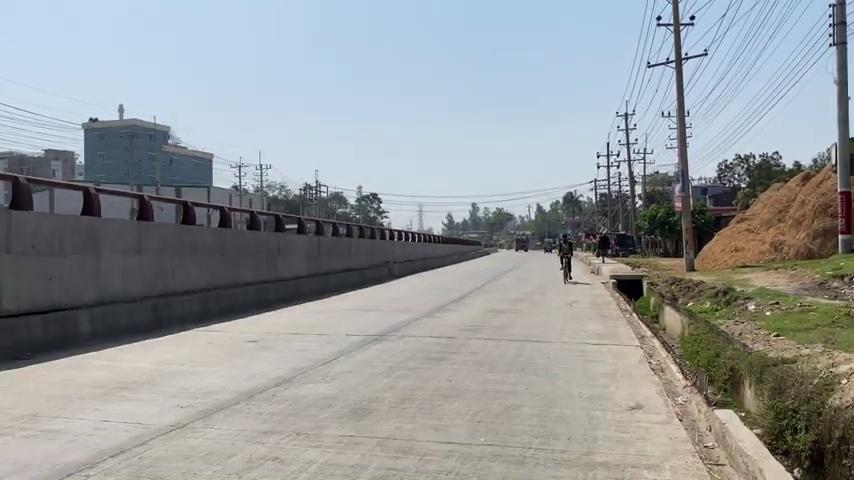Fallen-tree: (0, 173, 496, 362)
Fence: (557, 233, 573, 280), (597, 231, 610, 263)
Garbage: (647, 0, 708, 272), (670, 0, 696, 272), (829, 0, 853, 253)
Garbage-bin: (704, 354, 854, 480), (609, 272, 647, 301)
Rickshaw: (513, 230, 531, 251)
